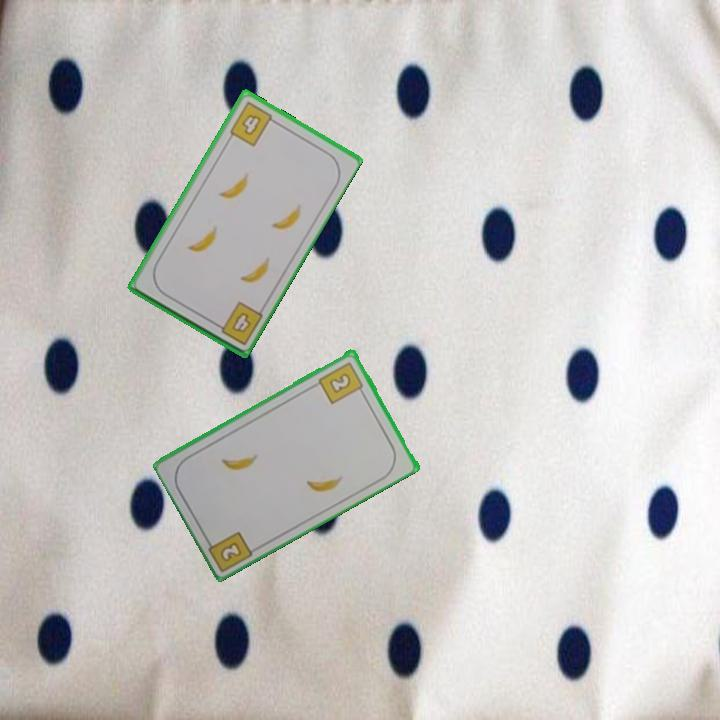2b: (315, 358, 367, 406), (216, 538, 245, 565)
4b: (226, 98, 280, 149), (210, 298, 265, 348)
